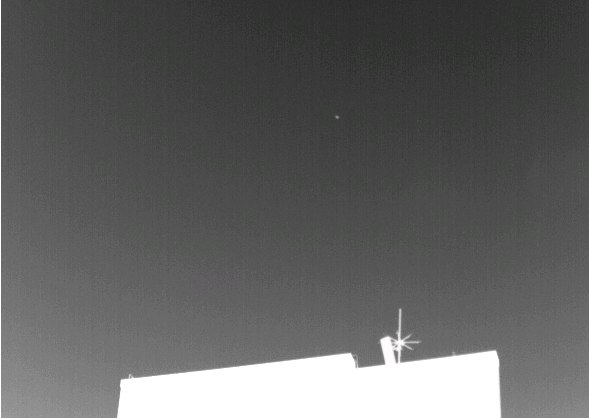dim target: (335, 114, 339, 120)
